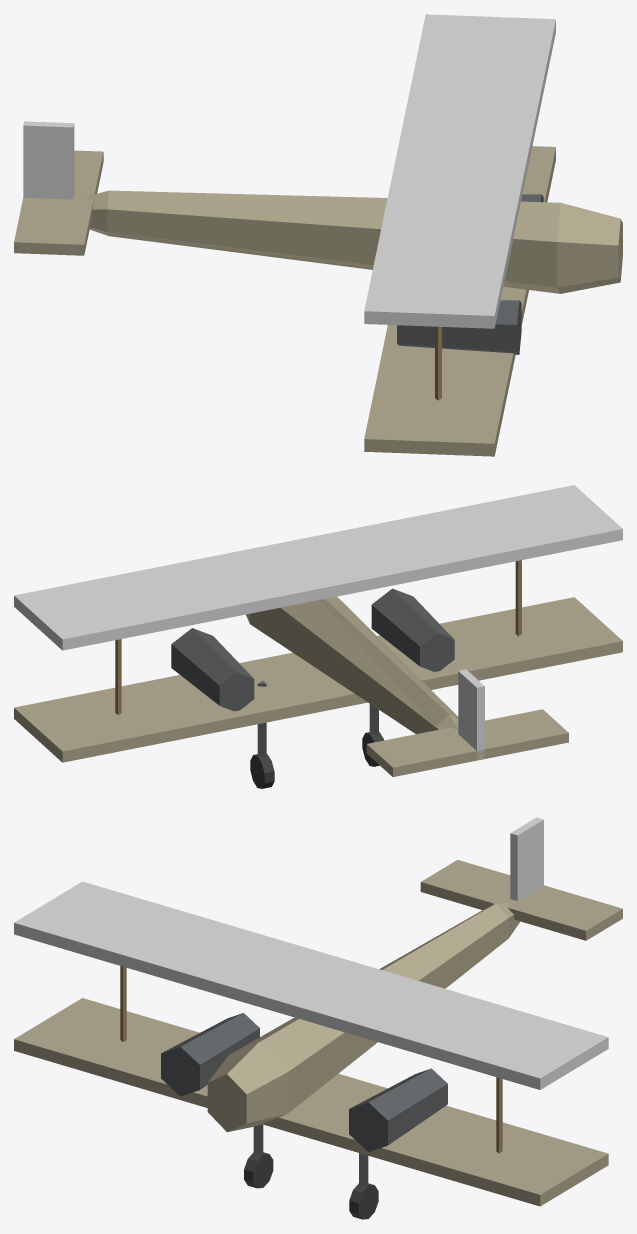
The model's file is wwi-bomber.glb.
3 renders of one model, top to bottom at view 1: azimuth 30°, elevation 25°; view 2: azimuth 150°, elevation 25°; view 3: azimuth 270°, elevation 25°, orthographic. The views are drawn at different scales.
Parts seen in each view (by area): view 1: LOD0; view 2: LOD0; view 3: LOD0.
Part boxes in pixels (left/top/right/bottom): LOD0: left=14, top=14, right=622, bottom=456; LOD0: left=14, top=485, right=622, bottom=788; LOD0: left=14, top=817, right=622, bottom=1219.
Size of what is drawn, in the model's own units: 1.35 by 0.59 by 1.33.
